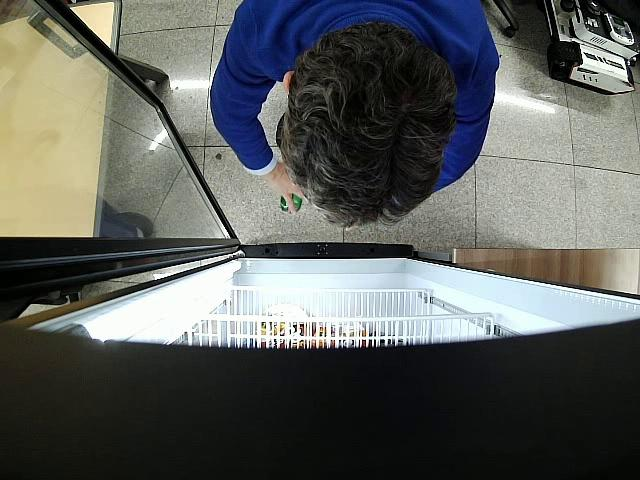00_hand: (273, 164, 305, 215)
